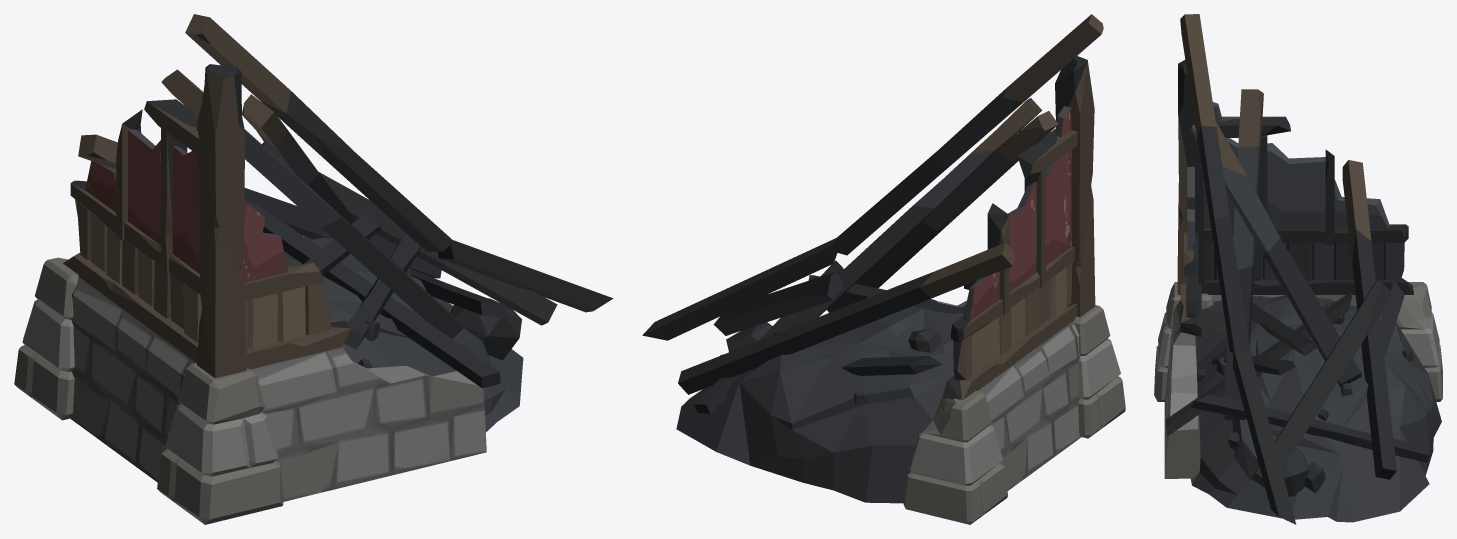
File: SM_Prop_Destroyed_House_Piece_02_Burnt.fbx
The picture shows the model from 3 angles, left to right: view 1: azimuth 30°, elevation 25°; view 2: azimuth 150°, elevation 25°; view 3: azimuth 270°, elevation 25°; orthographic projection. The views are drawn at different scales.
Visible parts, largest first — view 1: SM_Prop_Destroyed_House_Piece_02_Burnt; view 2: SM_Prop_Destroyed_House_Piece_02_Burnt; view 3: SM_Prop_Destroyed_House_Piece_02_Burnt.
Boxes of the visible parts, left/top/right/bottom form: SM_Prop_Destroyed_House_Piece_02_Burnt: left=14, top=14, right=613, bottom=524; SM_Prop_Destroyed_House_Piece_02_Burnt: left=642, top=14, right=1125, bottom=524; SM_Prop_Destroyed_House_Piece_02_Burnt: left=1154, top=14, right=1442, bottom=524.
Bounding box in the file's own units: 502 × 479 × 336.
1 material, 1 textured.
